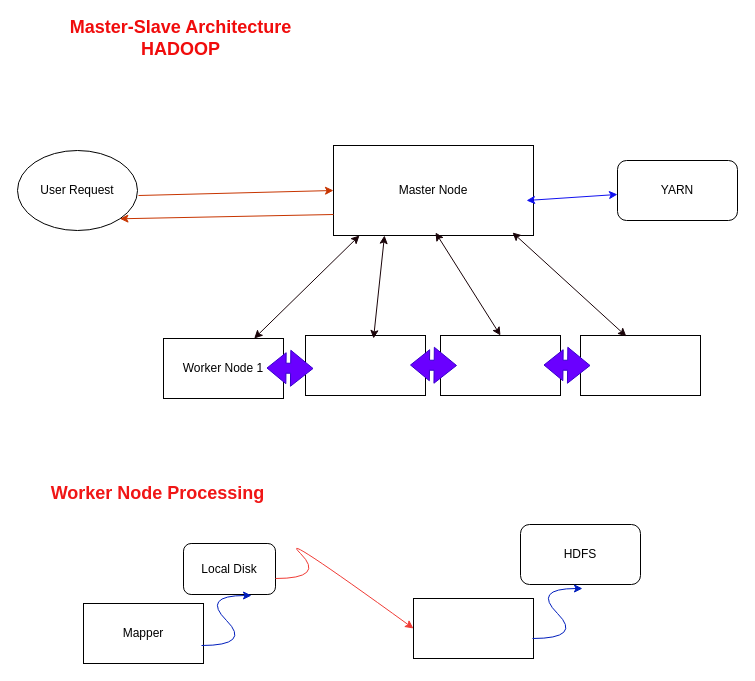
Some shapes in this 755 by 681 pixel diagram are drawn without their labels. Here are the shapes that lost their labels. From the top down, the centre of each, then its label:
At [365,365]: "Worker Node 2".
At [500,365]: "Worker Node 3".
At [640,365]: "Worker Node 4".
At [473,628]: "Reducer".
